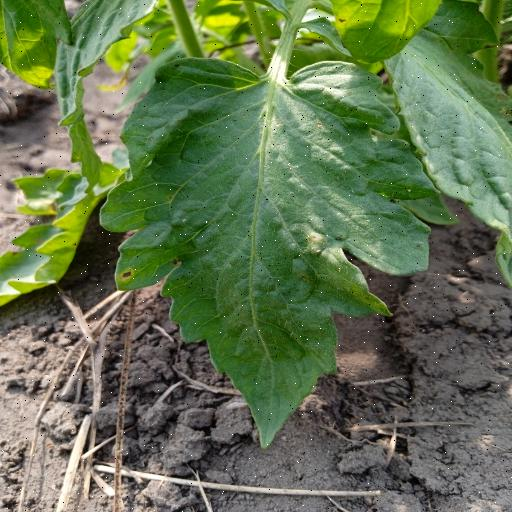Tomato_Brown_Spots: (96, 52, 456, 451)
